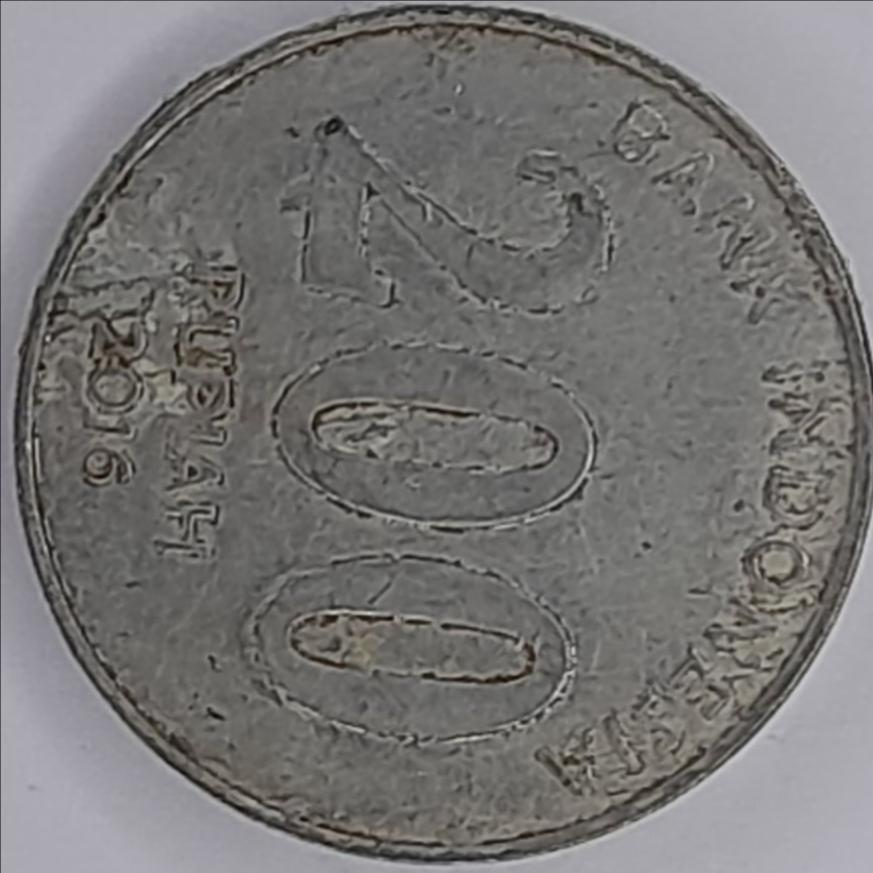coin_200_e2016: (0, 15, 873, 873)
